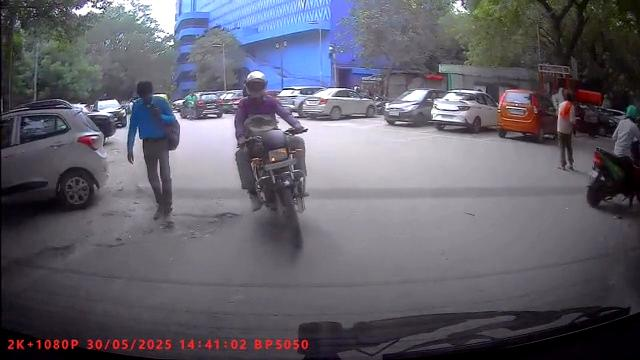motorcycle_with_helmet: (231, 70, 312, 252)
